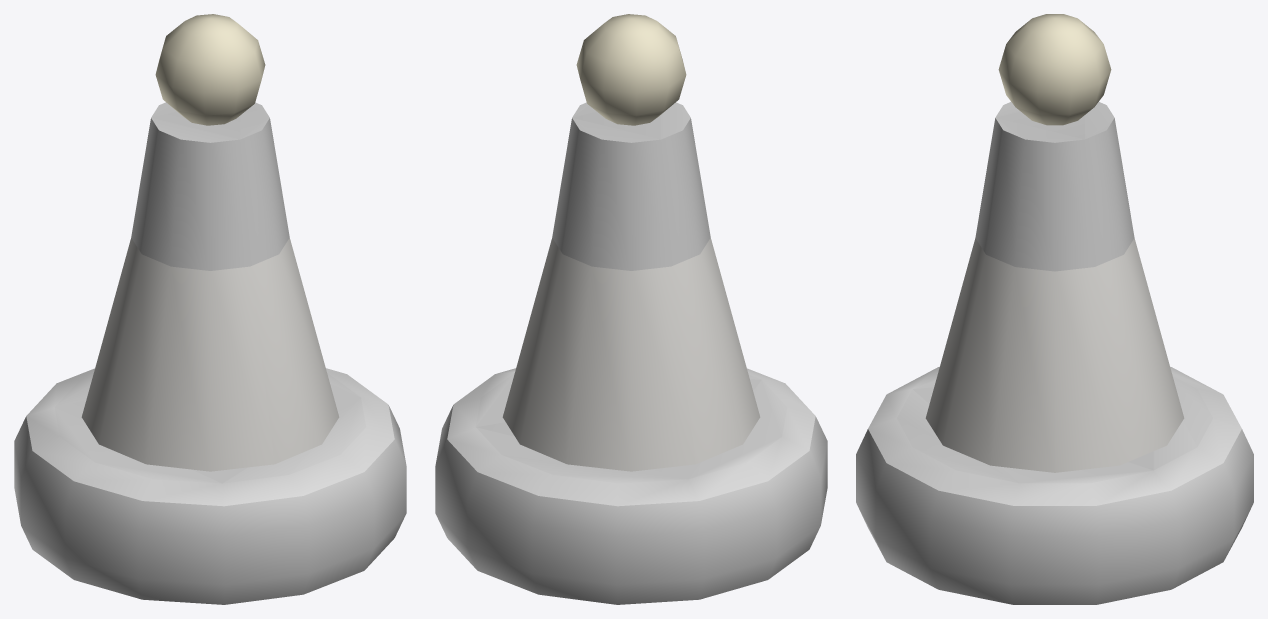
File: navigation_buoy.glb
3 renders of one model, left to right at view 1: azimuth 30°, elevation 25°; view 2: azimuth 150°, elevation 25°; view 3: azimuth 270°, elevation 25°, orthographic.
Visible parts, largest first — view 1: navigation_buoy; view 2: navigation_buoy; view 3: navigation_buoy.
Boxes of the visible parts, x1=… form: navigation_buoy: x1=14, y1=14, x2=406, y2=604; navigation_buoy: x1=435, y1=14, x2=827, y2=604; navigation_buoy: x1=856, y1=14, x2=1253, y2=604.
Size of the model in its own units: 0.585 by 0.865 by 0.6.
